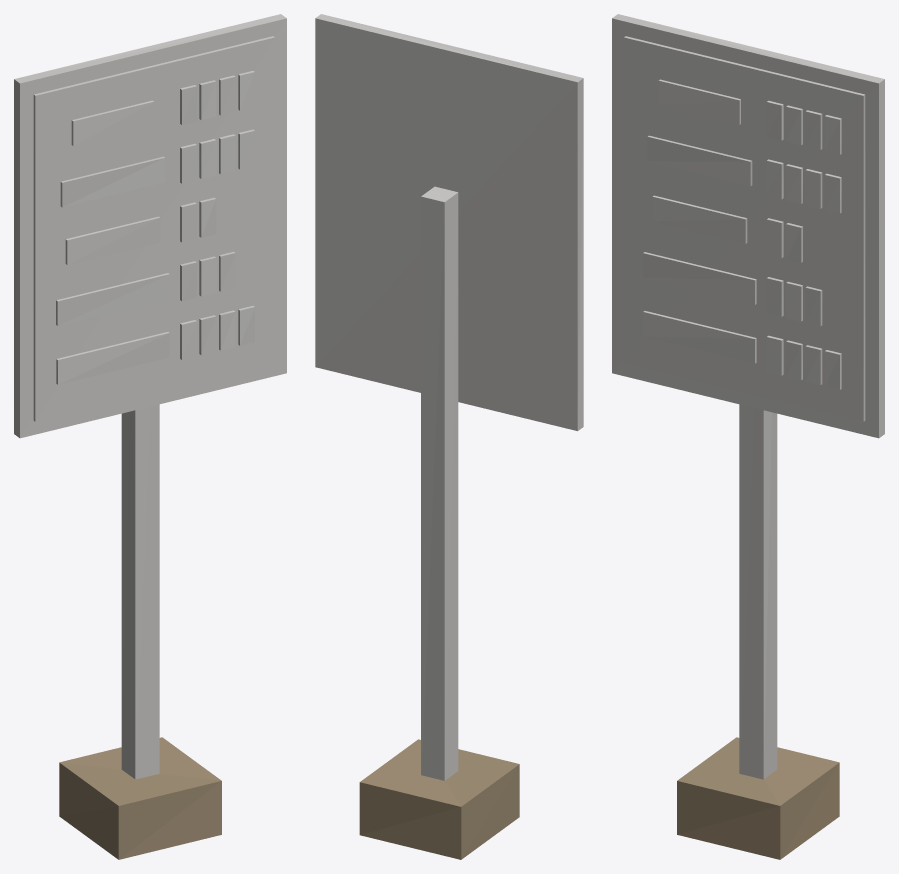
File: price-board-00.glb
3 views of the same model, side by side, from view 1: azimuth 30°, elevation 25°; view 2: azimuth 150°, elevation 25°; view 3: azimuth 330°, elevation 25° (orthographic).
Visible parts, largest first — view 1: price_board_00; view 2: price_board_00; view 3: price_board_00.
Boxes of the visible parts, x1,y1,x2,y2 form: price_board_00: (14,14,286,859); price_board_00: (315,14,583,859); price_board_00: (612,14,884,859).
Bounding box in the file's own units: 0.7762 × 2.18 × 0.2999.
